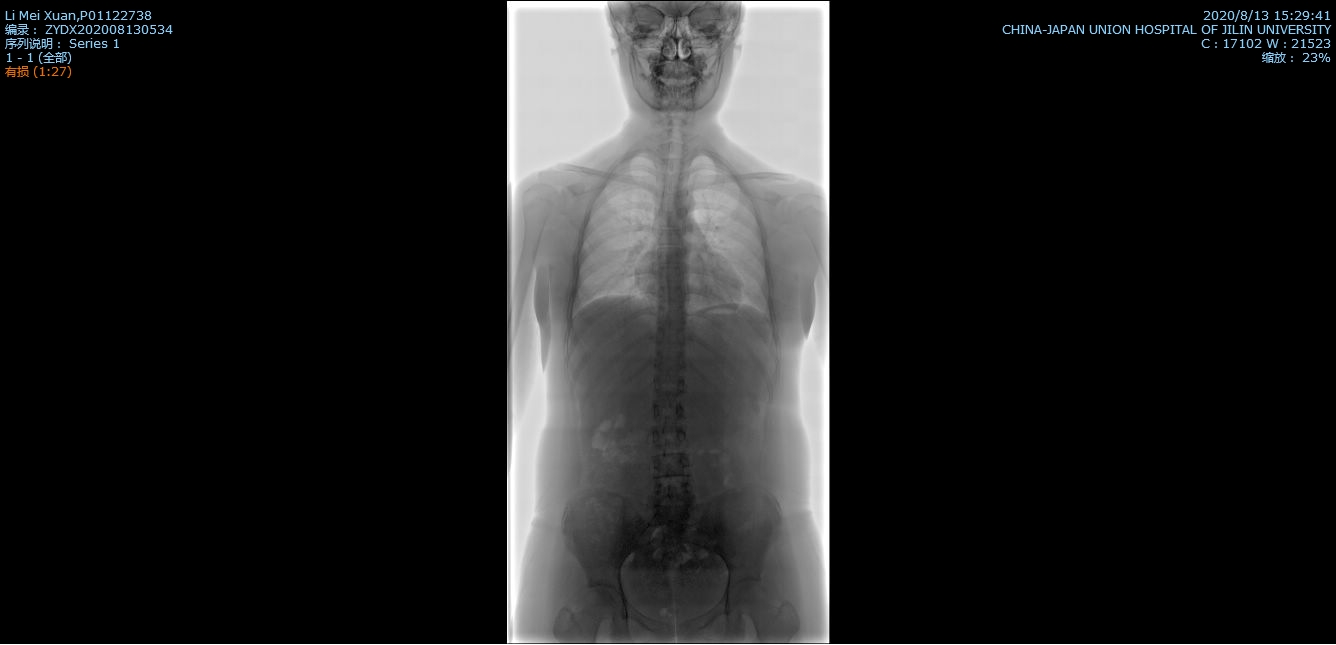Bone: (652, 455, 690, 477), (653, 483, 691, 504), (651, 428, 687, 448), (652, 401, 684, 420), (654, 375, 684, 395), (655, 350, 684, 368), (657, 305, 684, 322), (656, 327, 684, 343), (657, 286, 684, 300), (657, 248, 684, 262), (659, 266, 685, 280), (656, 230, 682, 243)
